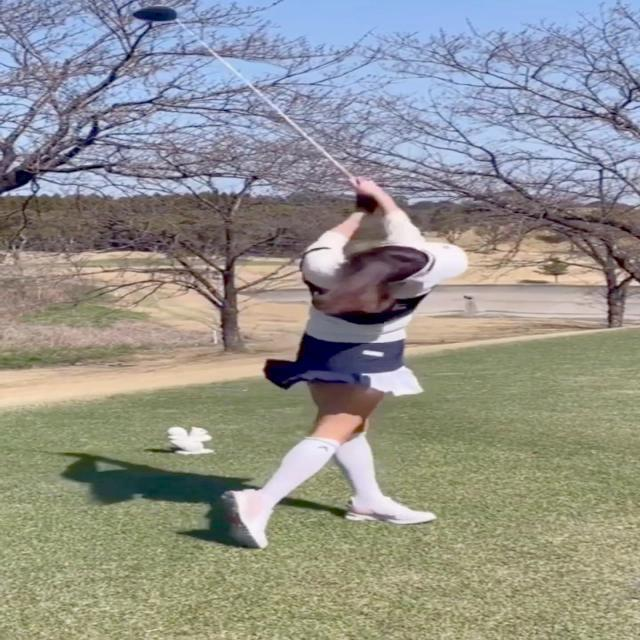golf club-handle: (133, 5, 353, 178)
golf club-head: (134, 6, 178, 23)
